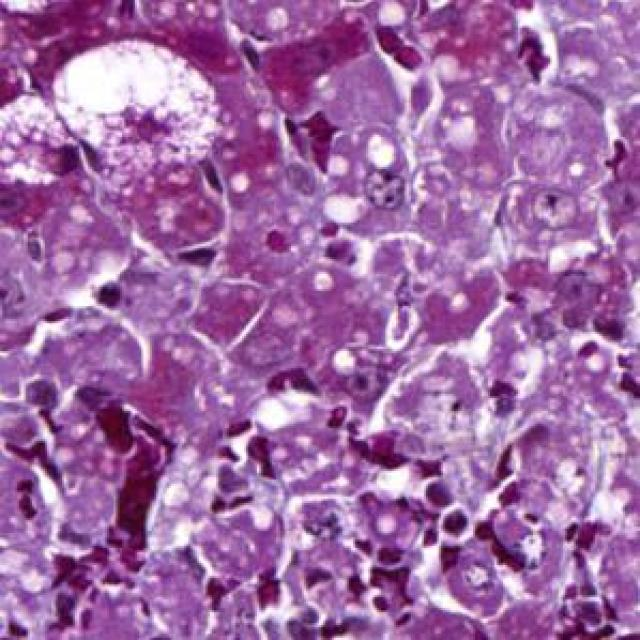ballooning: (51, 39, 225, 169), (0, 92, 83, 194)
